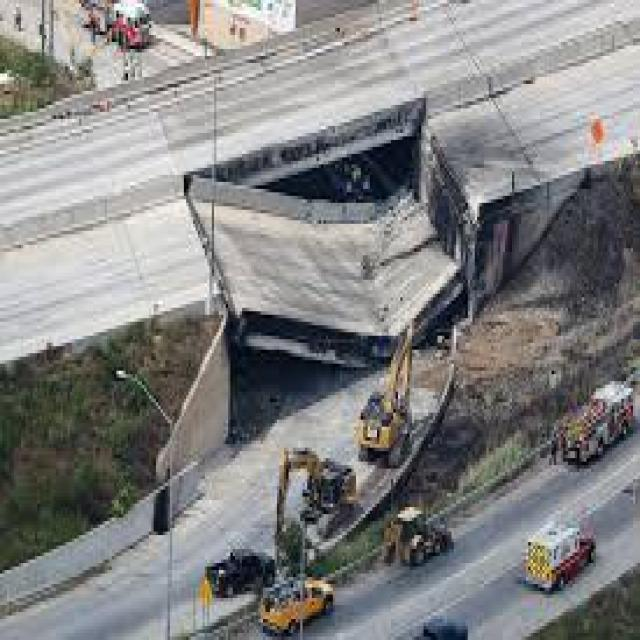bridge collapse: (127, 68, 562, 518)
